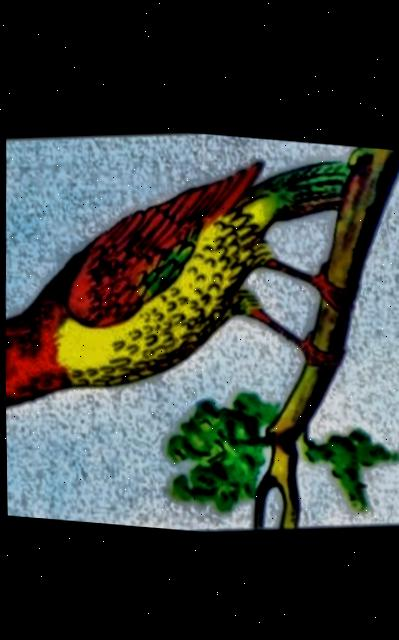El Pajaro: (4, 130, 399, 529)
